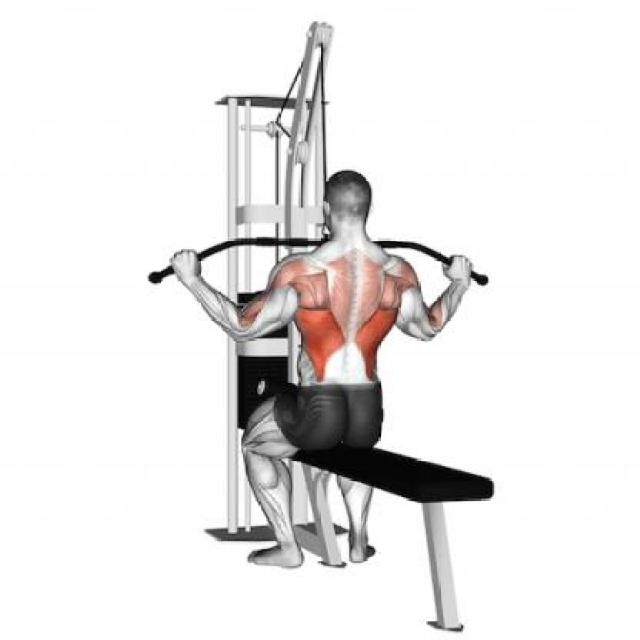Lat Pull Down: (134, 17, 520, 640)
